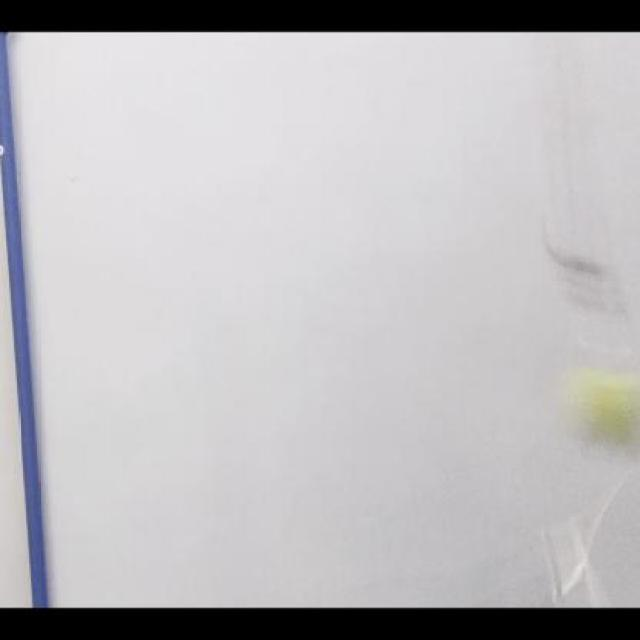baseball: (562, 360, 638, 452)
